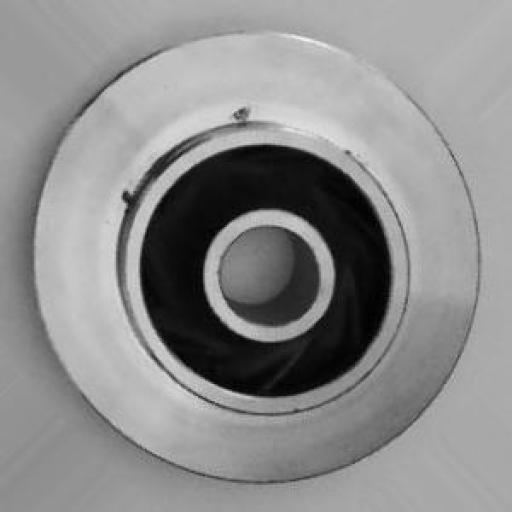defect: (95, 95, 271, 204)
